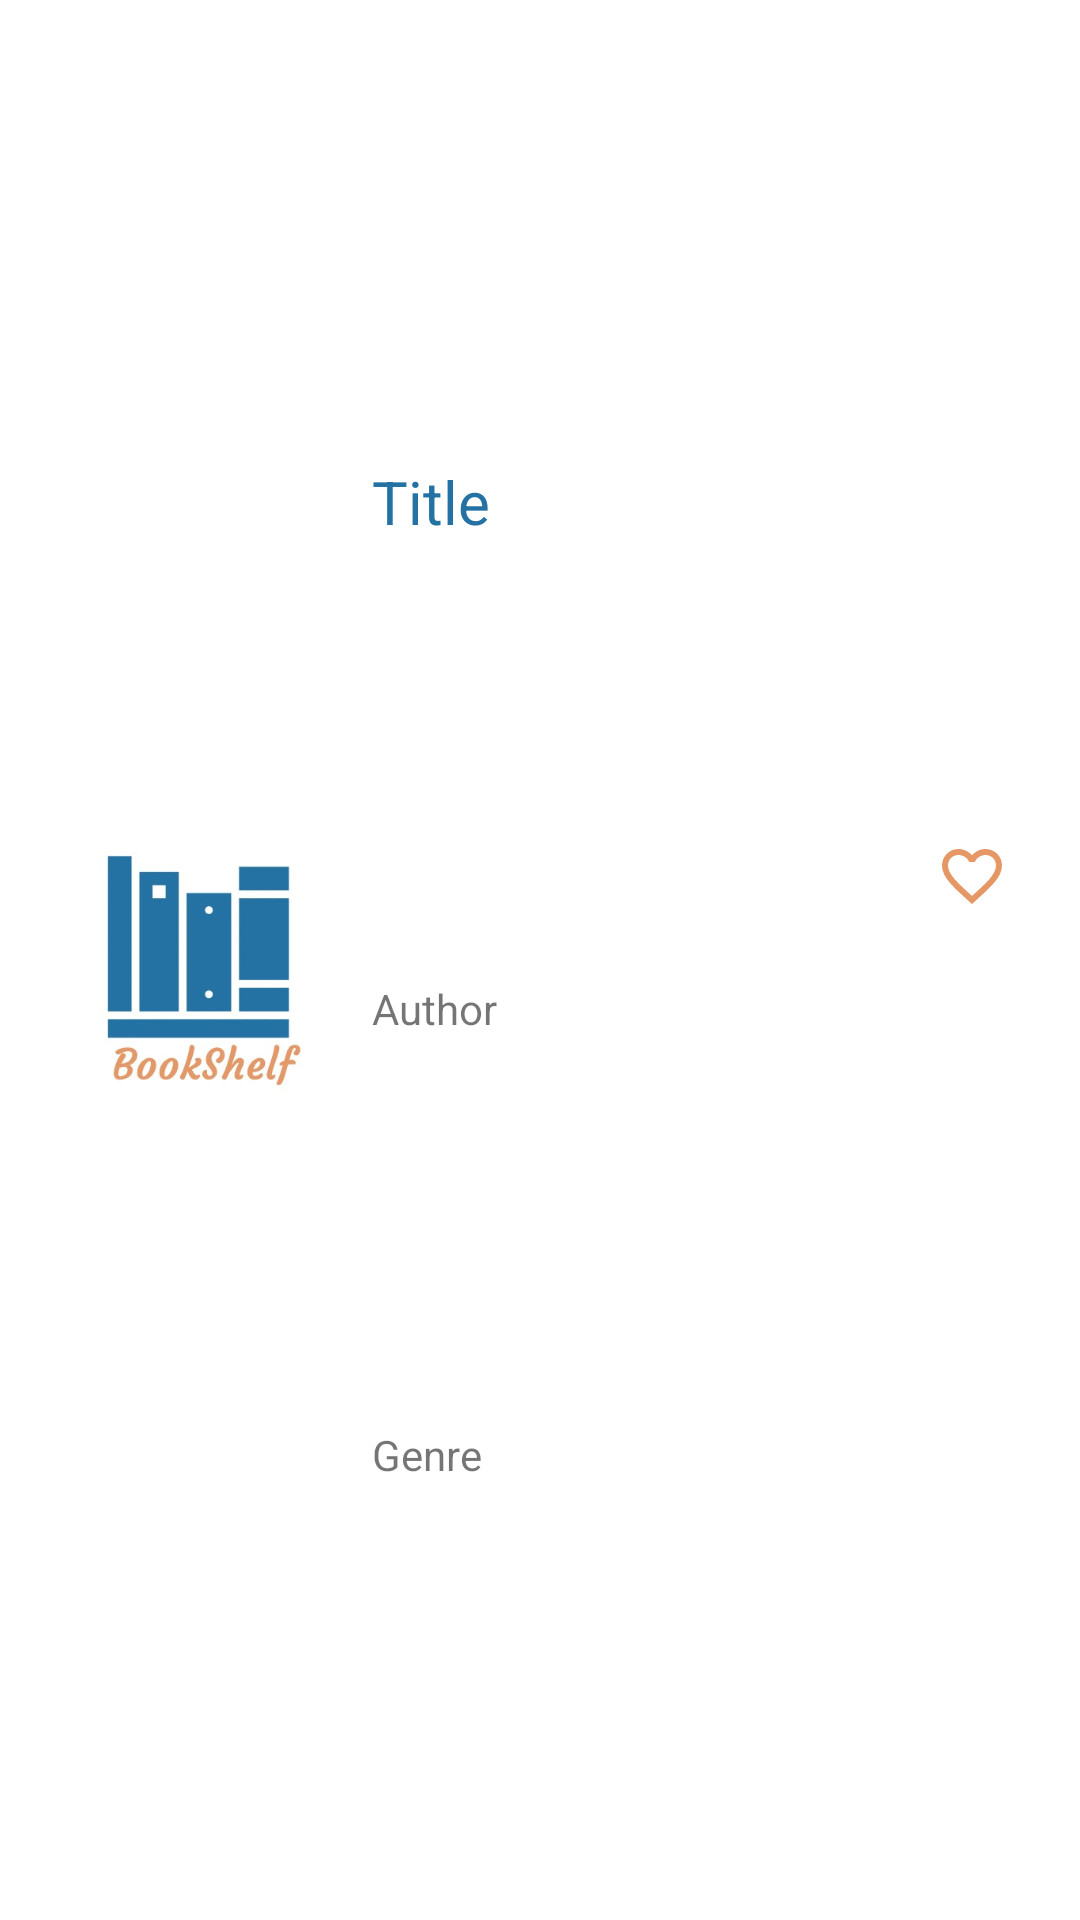

Locate icon controls on the screen. Image size 1080 × 1920, boxes as (x1, y1, x2, y2).
favorite border: (942, 849, 1002, 904)
